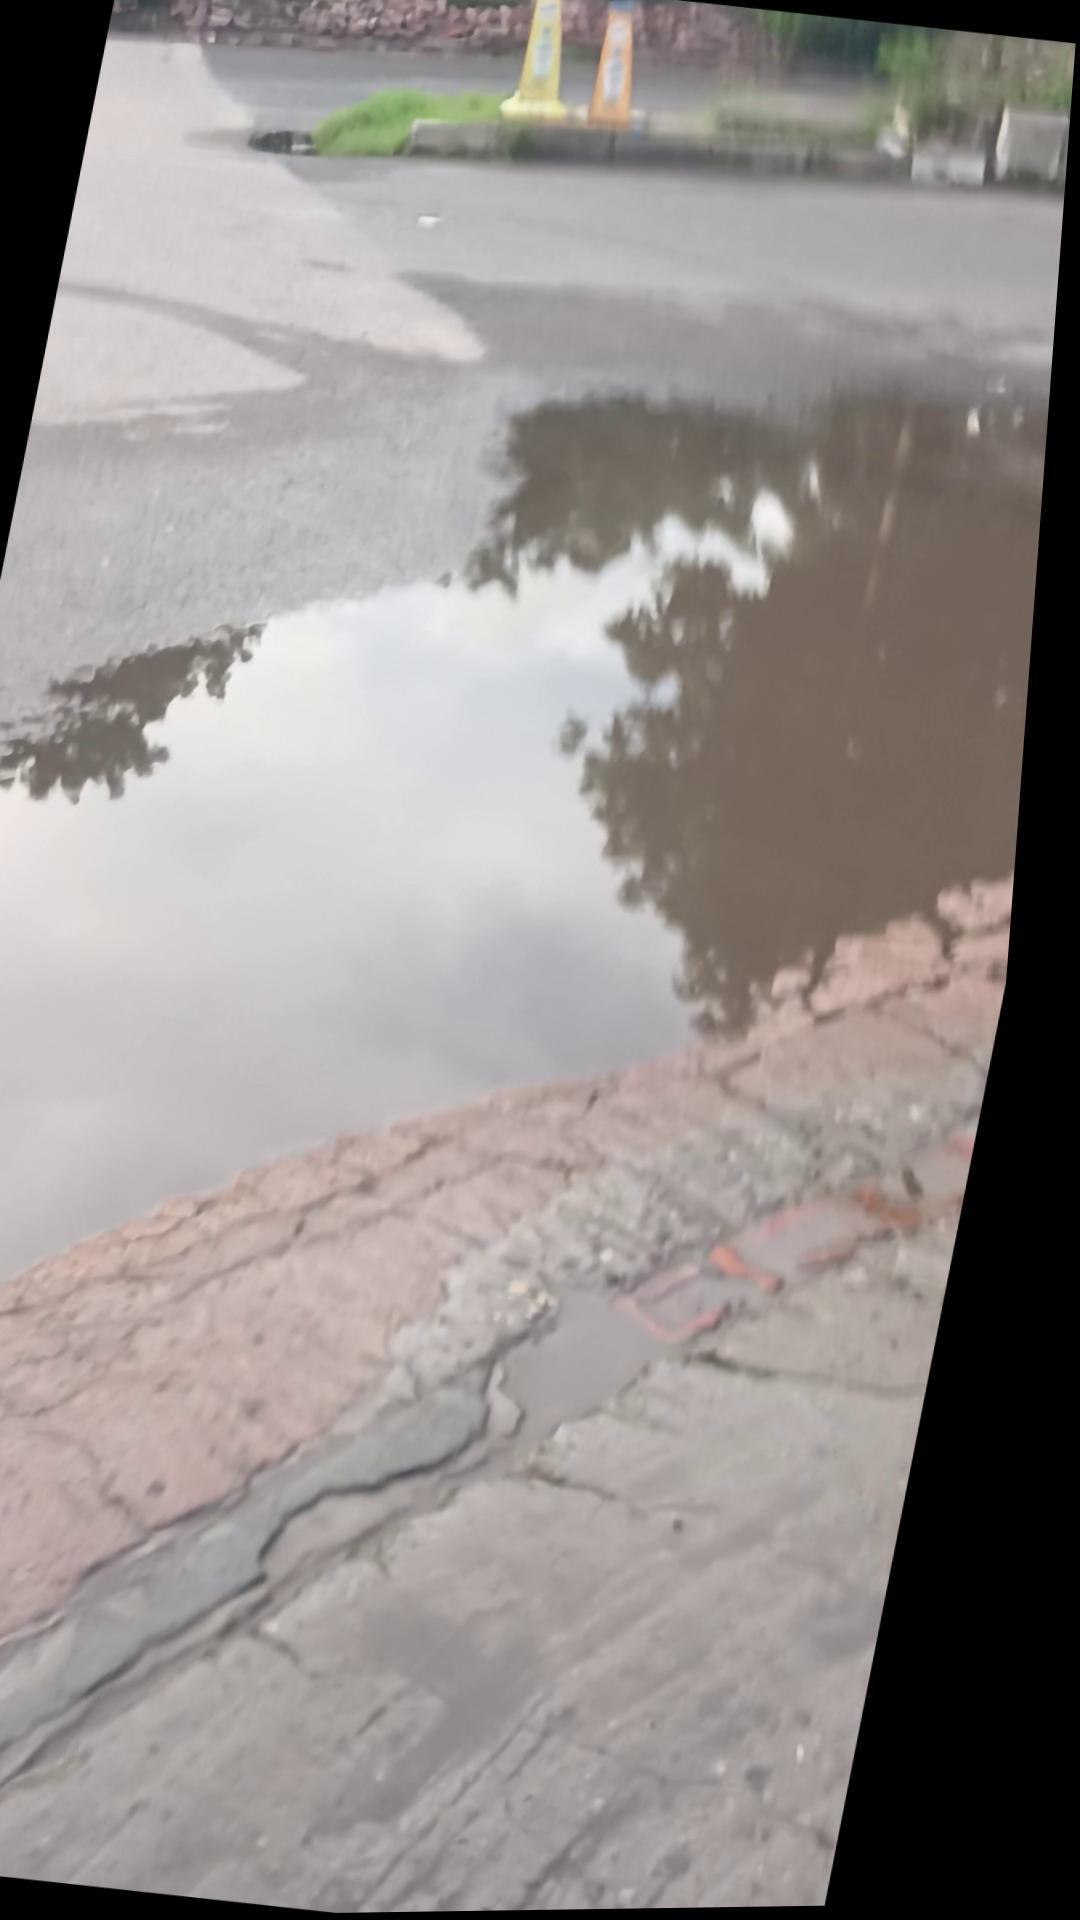Railroad-crossing: (0, 223, 1067, 1505)
Rickshaw: (496, 0, 592, 128), (582, 0, 654, 136)
